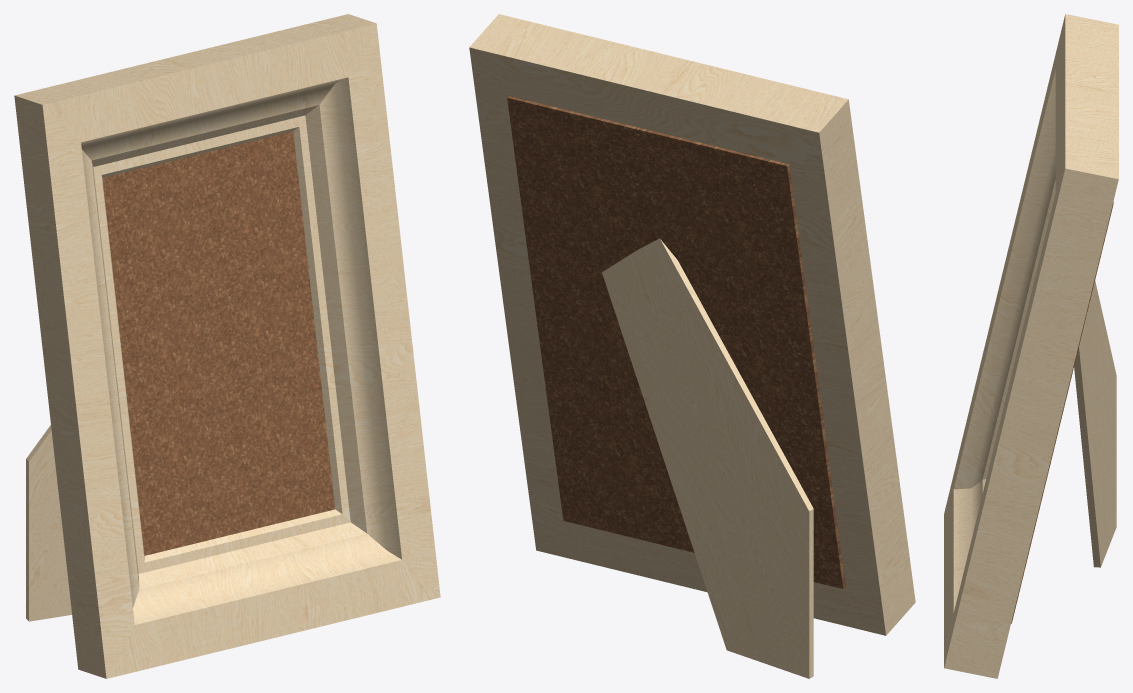
Rendered from syashintate.fbx.
The picture shows the model from 3 angles, left to right: view 1: azimuth 30°, elevation 25°; view 2: azimuth 150°, elevation 25°; view 3: azimuth 270°, elevation 25°; orthographic projection. The views are drawn at different scales.
Visible parts, largest first — view 1: syashintate; view 2: syashintate; view 3: syashintate.
Boxes of the visible parts, left/top/right/bottom form: syashintate: left=14, top=14, right=440, bottom=678; syashintate: left=469, top=14, right=915, bottom=678; syashintate: left=944, top=14, right=1118, bottom=678.
Bounding box in the file's own units: 48 × 73.91 × 22.93.
1 material, 1 textured.
